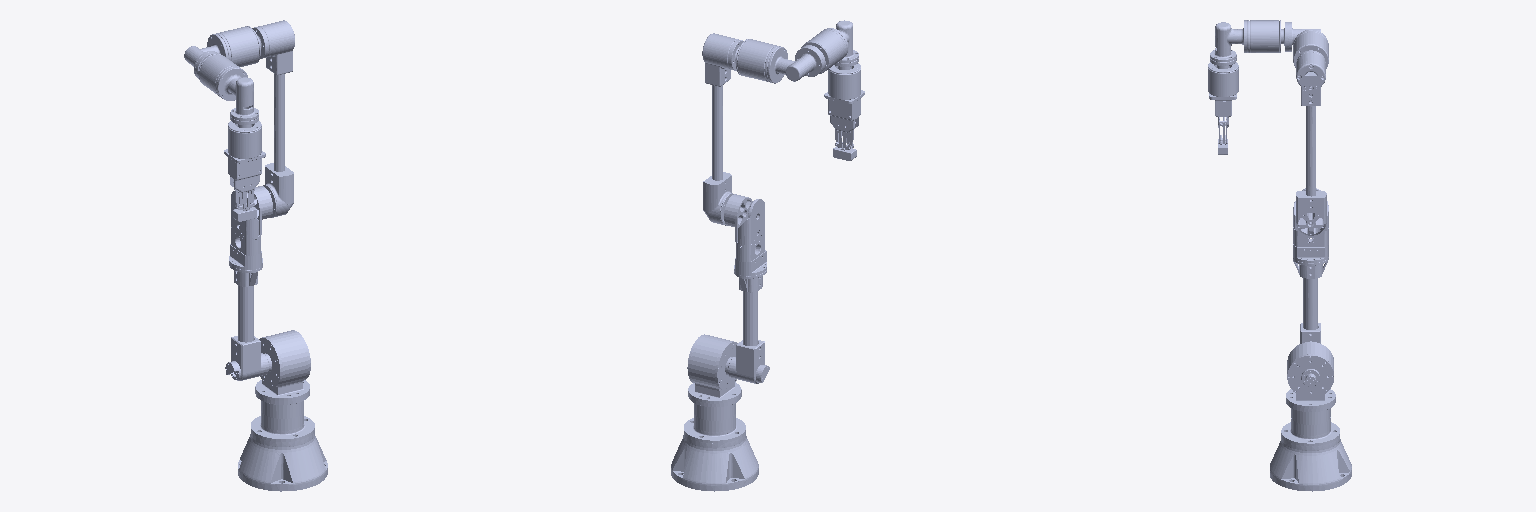
URDF robot description (urdf):
<?xml version="1.0" encoding="utf-8"?>
<!-- This URDF was automatically created by SolidWorks to URDF Exporter! Originally created by [author] ([email redacted]) 
     Commit Version: 1.6.0-4-g7f85cfe  Build Version: 1.6.7995.38578
     For more information, please see http://wiki.ros.org/sw_urdf_exporter -->
<robot
  name="urdf">
  <link
    name="base_link">
    <inertial>
      <origin
        xyz="-5.7174E-07 0.0045412 0.098906"
        rpy="0 0 0" />
      <mass
        value="3" />
      <inertia
        ixx="0.032082"
        ixy="1.6235E-06"
        ixz="2.3929E-08"
        iyy="0.032095"
        iyz="6.8566E-09"
        izz="0.049005" />
    </inertial>
    <visual>
      <origin
        xyz="0 0 0"
        rpy="0 0 0" />
      <geometry>
        <mesh
          filename="package://urdf/meshes/base_link.STL" />
      </geometry>
      <material
        name="">
        <color
          rgba="0.79216 0.81961 0.93333 1" />
      </material>
    </visual>
    <collision>
      <origin
        xyz="0 0 0"
        rpy="0 0 0" />
      <geometry>
        <mesh
          filename="package://urdf/meshes/base_link.STL" />
      </geometry>
    </collision>
  </link>
  <link
    name="link_1">
    <inertial>
      <origin
        xyz="-0.013855 7.5936E-05 0.086375"
        rpy="0 0 0" />
      <mass
        value="1.5042" />
      <inertia
        ixx="0.0065536"
        ixy="6.6422E-06"
        ixz="1.0195E-05"
        iyy="0.0045478"
        iyz="-1.6449E-07"
        izz="0.0031806" />
    </inertial>
    <visual>
      <origin
        xyz="0 0 0"
        rpy="0 0 0" />
      <geometry>
        <mesh
          filename="package://urdf/meshes/link_1.STL" />
      </geometry>
      <material
        name="">
        <color
          rgba="0.79216 0.81961 0.93333 1" />
      </material>
    </visual>
    <collision>
      <origin
        xyz="0 0 0"
        rpy="0 0 0" />
      <geometry>
        <mesh
          filename="package://urdf/meshes/link_1.STL" />
      </geometry>
    </collision>
  </link>
  <joint
    name="joint_1"
    type="revolute">
    <origin
      xyz="0 0.00454 0.27675"
      rpy="0 0 0" />
    <parent
      link="base_link" />
    <child
      link="link_1" />
    <axis
      xyz="0 0 -1" />
    <limit
      lower="0"
      upper="0"
      effort="0"
      velocity="0" />
  </joint>
  <link
    name="link_2">
    <inertial>
      <origin
        xyz="0.29593 0.00046382 0.12519"
        rpy="0 0 0" />
      <mass
        value="1.9118" />
      <inertia
        ixx="0.0024277"
        ixy="4.5242E-07"
        ixz="-4.6356E-05"
        iyy="0.0037051"
        iyz="2.5666E-07"
        izz="0.004494" />
    </inertial>
    <visual>
      <origin
        xyz="0 0 0"
        rpy="0 0 0" />
      <geometry>
        <mesh
          filename="package://urdf/meshes/link_2.STL" />
      </geometry>
      <material
        name="">
        <color
          rgba="0.79216 0.81961 0.93333 1" />
      </material>
    </visual>
    <collision>
      <origin
        xyz="0 0 0"
        rpy="0 0 0" />
      <geometry>
        <mesh
          filename="package://urdf/meshes/link_2.STL" />
      </geometry>
    </collision>
  </link>
  <joint
    name="joint_2"
    type="revolute">
    <origin
      xyz="0 0 0.11125"
      rpy="0 -1.5708 0" />
    <parent
      link="link_1" />
    <child
      link="link_2" />
    <axis
      xyz="0 0 1" />
    <limit
      lower="0"
      upper="0"
      effort="0"
      velocity="0" />
  </joint>
  <link
    name="link_3">
    <inertial>
      <origin
        xyz="0.32444 -6.8657E-07 0.039405"
        rpy="0 0 0" />
      <mass
        value="1.5893" />
      <inertia
        ixx="0.0019367"
        ixy="8.7731E-09"
        ixz="0.00010307"
        iyy="0.0051265"
        iyz="2.3778E-07"
        izz="0.0054473" />
    </inertial>
    <visual>
      <origin
        xyz="0 0 0"
        rpy="0 0 0" />
      <geometry>
        <mesh
          filename="package://urdf/meshes/link_3.STL" />
      </geometry>
      <material
        name="">
        <color
          rgba="0.79216 0.81961 0.93333 1" />
      </material>
    </visual>
    <collision>
      <origin
        xyz="0 0 0"
        rpy="0 0 0" />
      <geometry>
        <mesh
          filename="package://urdf/meshes/link_3.STL" />
      </geometry>
    </collision>
  </link>
  <joint
    name="joint_3"
    type="revolute">
    <origin
      xyz="0.55067 0.0010554 0.059019"
      rpy="3.1416 0 0" />
    <parent
      link="link_2" />
    <child
      link="link_3" />
    <axis
      xyz="0 0 1" />
    <limit
      lower="0"
      upper="0"
      effort="0"
      velocity="0" />
  </joint>
  <link
    name="link_4">
    <inertial>
      <origin
        xyz="1.3229E-08 -0.0050573 0.035081"
        rpy="0 0 0" />
      <mass
        value="1.3437" />
      <inertia
        ixx="0.002737"
        ixy="-6.2951E-07"
        ixz="-5.0878E-10"
        iyy="0.0024267"
        iyz="0.00017042"
        izz="0.0026175" />
    </inertial>
    <visual>
      <origin
        xyz="0 0 0"
        rpy="0 0 0" />
      <geometry>
        <mesh
          filename="package://urdf/meshes/link_4.STL" />
      </geometry>
      <material
        name="">
        <color
          rgba="0.79216 0.81961 0.93333 1" />
      </material>
    </visual>
    <collision>
      <origin
        xyz="0 0 0"
        rpy="0 0 0" />
      <geometry>
        <mesh
          filename="package://urdf/meshes/link_4.STL" />
      </geometry>
    </collision>
  </link>
  <joint
    name="joint_4"
    type="revolute">
    <origin
      xyz="0.55 0 -0.10754"
      rpy="-3.1416 0 0" />
    <parent
      link="link_3" />
    <child
      link="link_4" />
    <axis
      xyz="0 0 -1" />
    <limit
      lower="0"
      upper="0"
      effort="0"
      velocity="0" />
  </joint>
  <link
    name="link_5">
    <inertial>
      <origin
        xyz="-0.0036254 2.0253E-08 0.0394"
        rpy="0 0 0" />
      <mass
        value="1.2088" />
      <inertia
        ixx="0.0019848"
        ixy="1.2049E-06"
        ixz="0.00010532"
        iyy="0.0023048"
        iyz="-3.5199E-10"
        izz="0.0020636" />
    </inertial>
    <visual>
      <origin
        xyz="0 0 0"
        rpy="0 0 0" />
      <geometry>
        <mesh
          filename="package://urdf/meshes/link_5.STL" />
      </geometry>
      <material
        name="">
        <color
          rgba="0.79216 0.81961 0.93333 1" />
      </material>
    </visual>
    <collision>
      <origin
        xyz="0 0 0"
        rpy="0 0 0" />
      <geometry>
        <mesh
          filename="package://urdf/meshes/link_5.STL" />
      </geometry>
    </collision>
  </link>
  <joint
    name="joint_5"
    type="revolute">
    <origin
      xyz="0 -0.157 0.14"
      rpy="1.5708 0 0" />
    <parent
      link="link_4" />
    <child
      link="link_5" />
    <axis
      xyz="0 0 1" />
    <limit
      lower="0"
      upper="0"
      effort="0"
      velocity="0" />
  </joint>
  <link
    name="link_6">
    <inertial>
      <origin
        xyz="-8.1852E-05 4.7642E-05 0.015002"
        rpy="0 0 0" />
      <mass
        value="0.74838" />
      <inertia
        ixx="0.0011558"
        ixy="-2.1144E-06"
        ixz="-8.302E-07"
        iyy="0.0013338"
        iyz="-1.2088E-06"
        izz="0.0011771" />
    </inertial>
    <visual>
      <origin
        xyz="0 0 0"
        rpy="0 0 0" />
      <geometry>
        <mesh
          filename="package://urdf/meshes/link_6.STL" />
      </geometry>
      <material
        name="">
        <color
          rgba="0.79216 0.81961 0.93333 1" />
      </material>
    </visual>
    <collision>
      <origin
        xyz="0 0 0"
        rpy="0 0 0" />
      <geometry>
        <mesh
          filename="package://urdf/meshes/link_6.STL" />
      </geometry>
    </collision>
  </link>
  <joint
    name="joint_6"
    type="revolute">
    <origin
      xyz="-0.157 0 0.14"
      rpy="-1.5708 0 1.5708" />
    <parent
      link="link_5" />
    <child
      link="link_6" />
    <axis
      xyz="0 0 -1" />
    <limit
      lower="0"
      upper="0"
      effort="0"
      velocity="0" />
  </joint>
  <link
    name="right_gripper">
    <inertial>
      <origin
        xyz="0.013255 0.080275 0.00033066"
        rpy="0 0 0" />
      <mass
        value="0.028855" />
      <inertia
        ixx="1.2432E-05"
        ixy="1.8928E-07"
        ixz="3.263E-12"
        iyy="4.3852E-06"
        iyz="-7.5287E-12"
        izz="1.2567E-05" />
    </inertial>
    <visual>
      <origin
        xyz="0 0 0"
        rpy="0 0 0" />
      <geometry>
        <mesh
          filename="package://urdf/meshes/right_gripper.STL" />
      </geometry>
      <material
        name="">
        <color
          rgba="0.79216 0.81961 0.93333 1" />
      </material>
    </visual>
    <collision>
      <origin
        xyz="0 0 0"
        rpy="0 0 0" />
      <geometry>
        <mesh
          filename="package://urdf/meshes/right_gripper.STL" />
      </geometry>
    </collision>
  </link>
  <joint
    name="right_ee_joint"
    type="revolute">
    <origin
      xyz="0.031487 2.5E-05 0.14715"
      rpy="1.5708 0 -3.1416" />
    <parent
      link="link_6" />
    <child
      link="right_gripper" />
    <axis
      xyz="0 0 -1" />
    <limit
      lower="0"
      upper="0"
      effort="0"
      velocity="0" />
  </joint>
  <link
    name="left_gripper">
    <inertial>
      <origin
        xyz="-0.012568 0.080386 0.00028069"
        rpy="0 0 0" />
      <mass
        value="0.028855" />
      <inertia
        ixx="1.2428E-05"
        ixy="-2.5801E-07"
        ixz="3.3277E-12"
        iyy="4.389E-06"
        iyz="7.4999E-12"
        izz="1.2567E-05" />
    </inertial>
    <visual>
      <origin
        xyz="0 0 0"
        rpy="0 0 0" />
      <geometry>
        <mesh
          filename="package://urdf/meshes/left_gripper.STL" />
      </geometry>
      <material
        name="">
        <color
          rgba="0.79216 0.81961 0.93333 1" />
      </material>
    </visual>
    <collision>
      <origin
        xyz="0 0 0"
        rpy="0 0 0" />
      <geometry>
        <mesh
          filename="package://urdf/meshes/left_gripper.STL" />
      </geometry>
    </collision>
  </link>
  <joint
    name="left_ee_joint"
    type="revolute">
    <origin
      xyz="-0.031487 2.5E-05 0.14715"
      rpy="1.5708 0 3.1416" />
    <parent
      link="link_6" />
    <child
      link="left_gripper" />
    <axis
      xyz="0 0 -1" />
    <limit
      lower="0"
      upper="0"
      effort="0"
      velocity="0" />
  </joint>
</robot>

--- Render facts (derived) ---
3 views of the same robot in one strip: view 1: azimuth 30°, elevation 25°; view 2: azimuth 150°, elevation 25°; view 3: azimuth 270°, elevation 25° (orthographic).
Model urdf with 9 links and 8 joints (8 revolute), rooted at base_link, posed all joints at 0.
Links seen in each view (by area): view 1: base_link, link_2, link_3, link_1, link_5, link_6, link_4; view 2: base_link, link_2, link_3, link_1, link_4, link_6, link_5; view 3: base_link, link_3, link_1, link_2, link_5, link_6, link_4.
Link boxes in pixels (x1=…): base_link: x1=238, y1=390, x2=327, y2=491; link_2: x1=229, y1=185, x2=276, y2=380; link_3: x1=258, y1=20, x2=294, y2=217; link_1: x1=225, y1=330, x2=310, y2=400; link_5: x1=195, y1=52, x2=258, y2=120; link_6: x1=224, y1=116, x2=265, y2=192; link_4: x1=184, y1=26, x2=268, y2=76; base_link: x1=671, y1=393, x2=758, y2=491; link_2: x1=720, y1=193, x2=766, y2=383; link_3: x1=702, y1=33, x2=737, y2=224; link_1: x1=687, y1=334, x2=769, y2=403; link_4: x1=728, y1=39, x2=822, y2=83; link_6: x1=824, y1=58, x2=864, y2=132; link_5: x1=801, y1=20, x2=858, y2=73; base_link: x1=1270, y1=400, x2=1351, y2=491; link_3: x1=1296, y1=52, x2=1326, y2=235; link_1: x1=1286, y1=342, x2=1335, y2=408; link_2: x1=1293, y1=188, x2=1328, y2=360; link_5: x1=1210, y1=20, x2=1288, y2=61; link_6: x1=1208, y1=57, x2=1238, y2=127; link_4: x1=1289, y1=22, x2=1328, y2=68.
Size in the robot's own frame: 0.5014 by 0.4884 by 1.55 metres.
9 mesh visuals loaded from 9 distinct referenced files (9 binary STL).